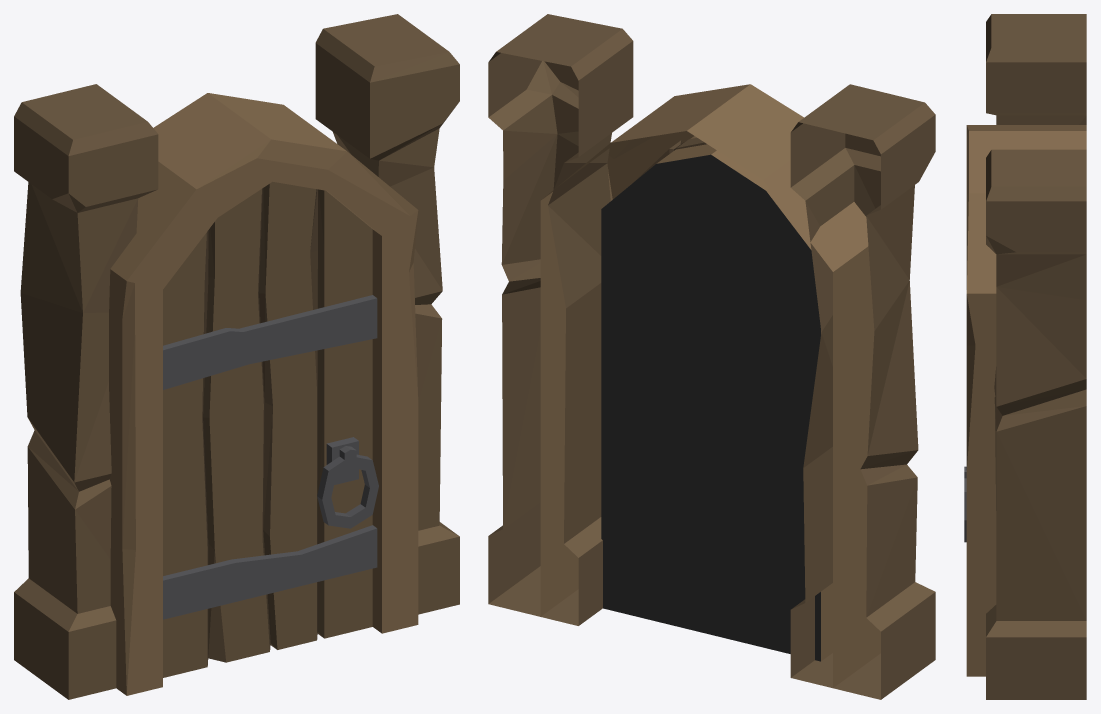
Rendered from SM_Bld_House_Door_02.gltf.
3 renders of one model, left to right at view 1: azimuth 30°, elevation 25°; view 2: azimuth 150°, elevation 25°; view 3: azimuth 270°, elevation 25°, orthographic. The views are drawn at different scales.
Parts seen in each view (by area): view 1: SM_Bld_House_Door_02; view 2: SM_Bld_House_Door_02; view 3: SM_Bld_House_Door_02.
Boxes of the visible parts, <box> form: SM_Bld_House_Door_02: <box>14,14,459,699</box>; SM_Bld_House_Door_02: <box>488,14,935,699</box>; SM_Bld_House_Door_02: <box>964,14,1086,699</box>.
Size of the model in its own units: 1.7 by 2.3 by 0.497.
1 material, 1 textured.
